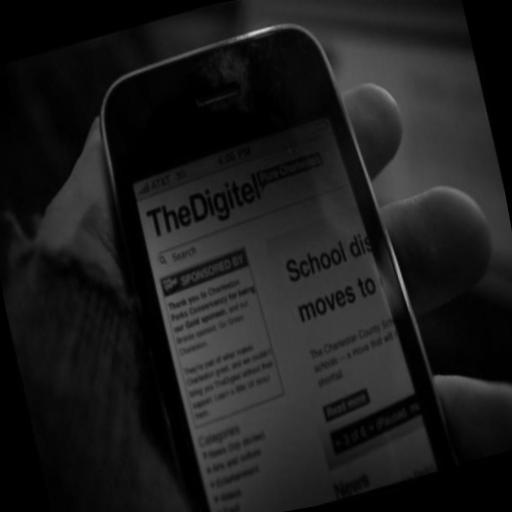phone: (95, 25, 460, 512)
